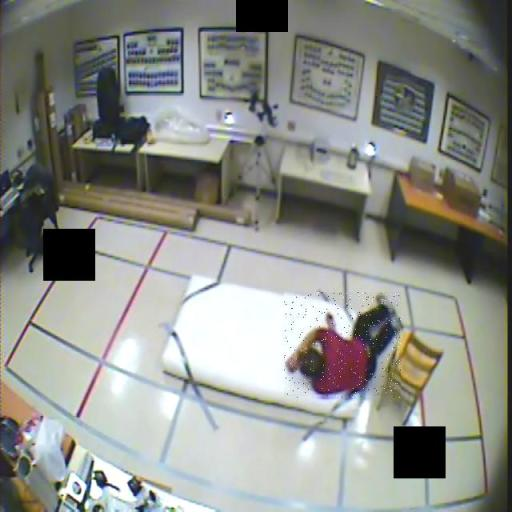Fall: (284, 293, 401, 398)
